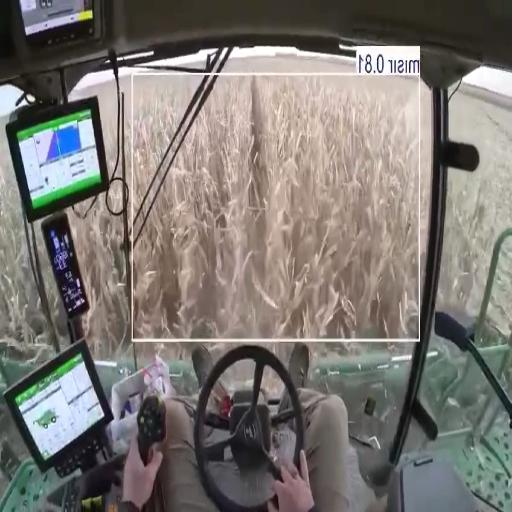misir: (136, 77, 420, 336), (135, 77, 196, 195)
